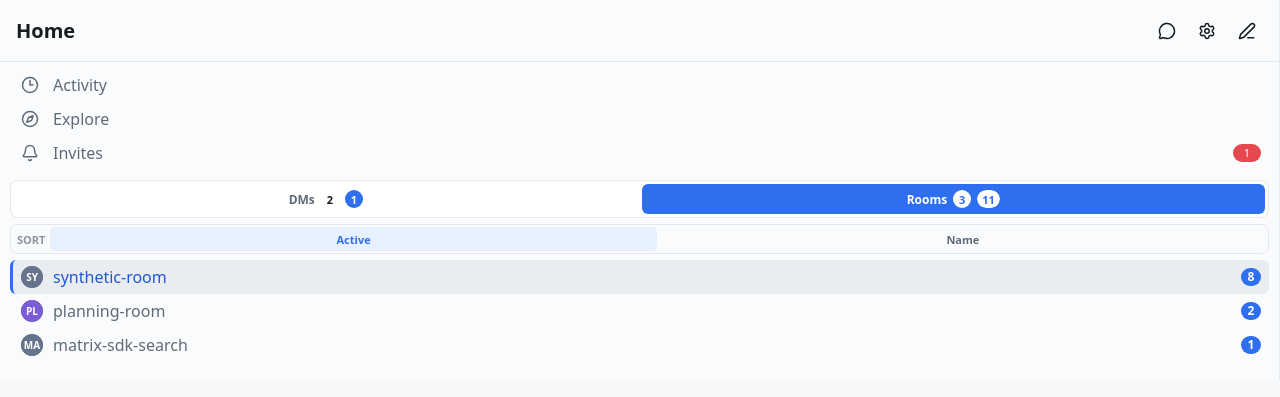
Test: Sidebar › shows online presence only on Direct Messages rows
Click the button "DMs 2 1" at [326, 199], box [14,184,638,214]
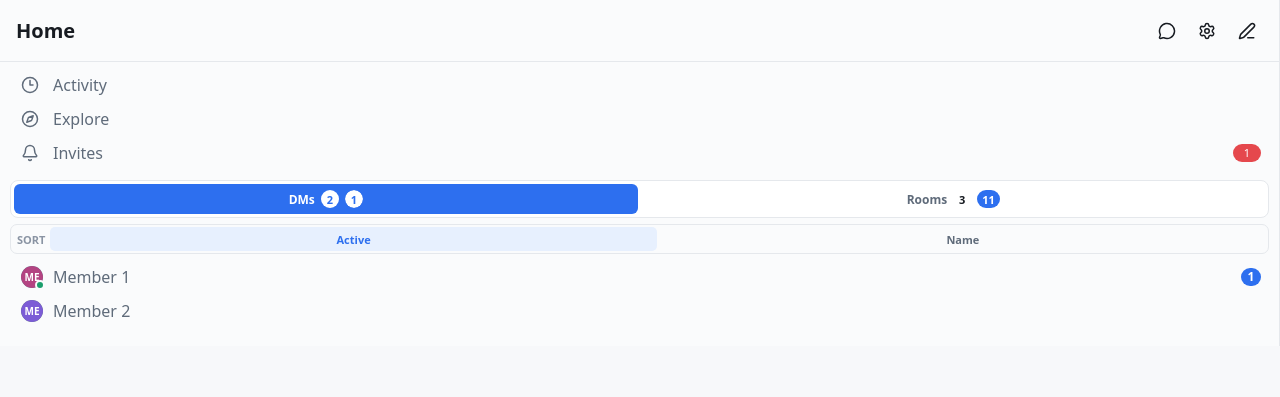
Expected: the element with class "room-presence-dot" is shown, [35,280,45,290]
